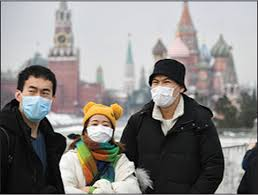masked: (15, 66, 57, 123), (145, 55, 187, 109), (78, 101, 119, 144)
